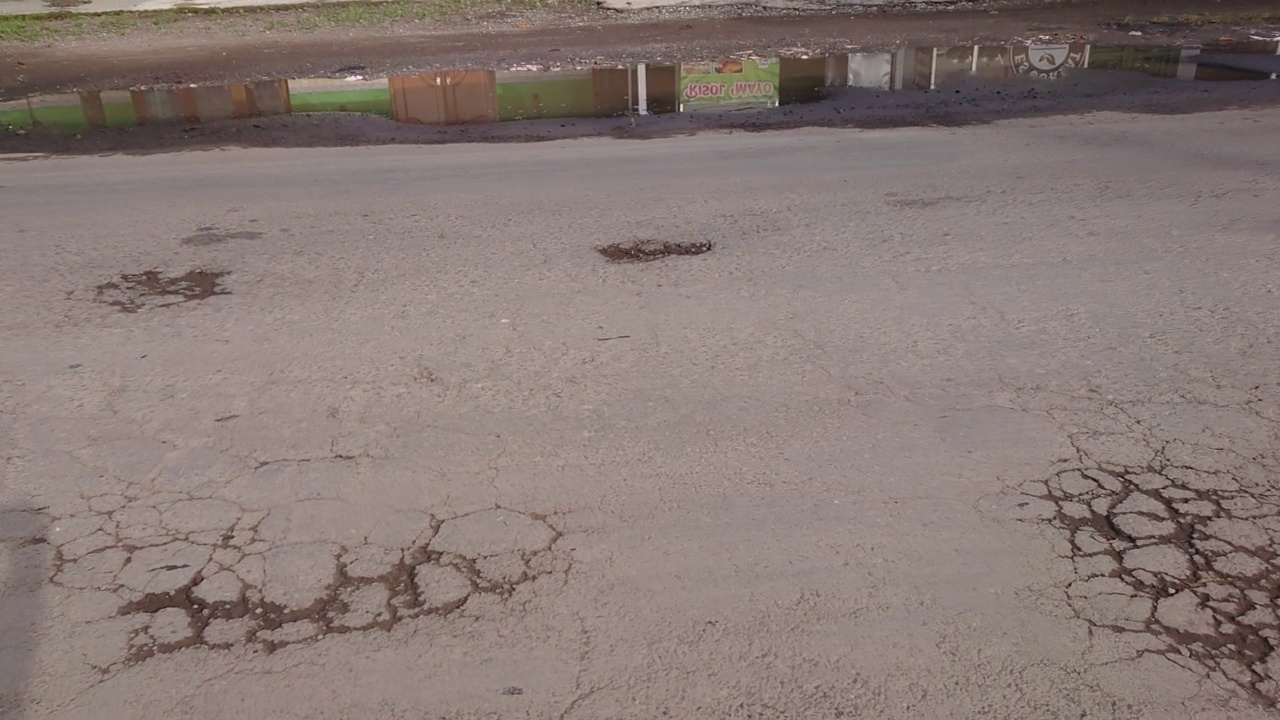Retak: (56, 498, 563, 661), (1036, 454, 1280, 700), (104, 254, 250, 310), (588, 232, 717, 269)
